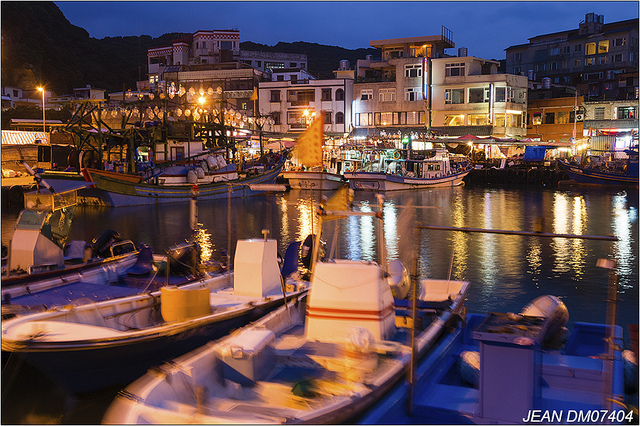fishing_boat: (43, 101, 285, 201), (348, 125, 465, 192), (288, 142, 347, 192)
